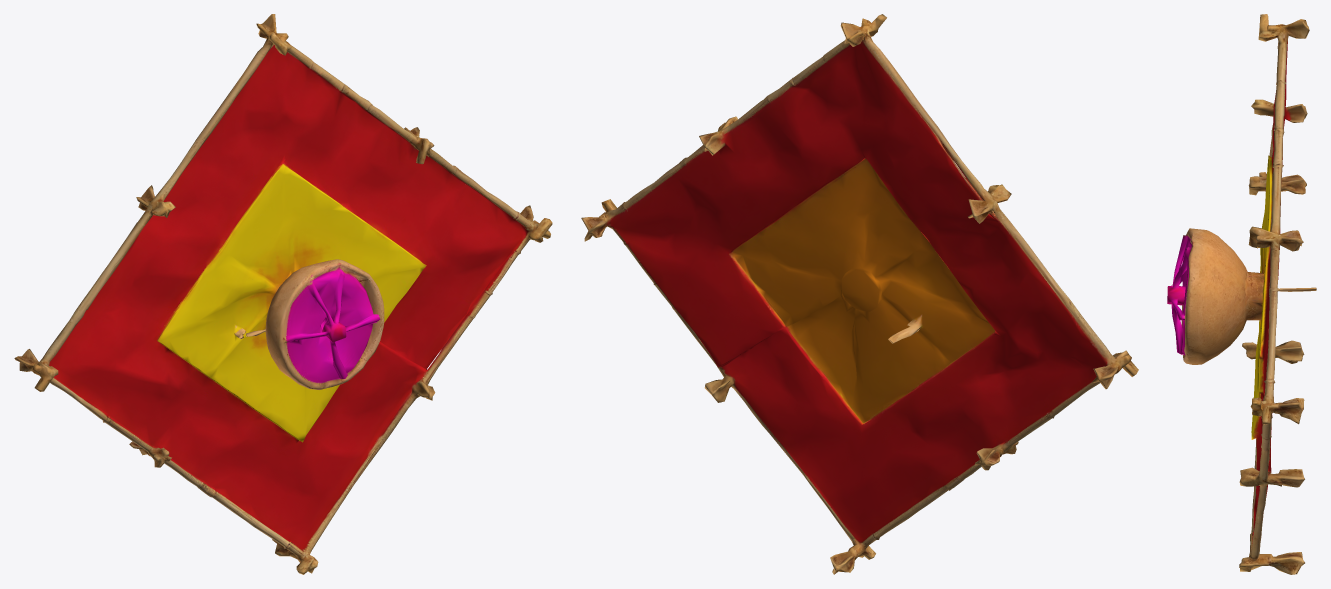
File: kite_changa.glb
3 renders of one model, left to right at view 1: azimuth 30°, elevation 25°; view 2: azimuth 150°, elevation 25°; view 3: azimuth 270°, elevation 25°, orthographic. The views are drawn at different scales.
Visible parts, largest first — view 1: tripo_node_9cee32e8-45a4-4835-8f10-a7f914b60bdd; view 2: tripo_node_9cee32e8-45a4-4835-8f10-a7f914b60bdd; view 3: tripo_node_9cee32e8-45a4-4835-8f10-a7f914b60bdd.
Part boxes in pixels (x1,y1,x2,y2): tripo_node_9cee32e8-45a4-4835-8f10-a7f914b60bdd: (14, 14, 552, 574); tripo_node_9cee32e8-45a4-4835-8f10-a7f914b60bdd: (581, 14, 1138, 574); tripo_node_9cee32e8-45a4-4835-8f10-a7f914b60bdd: (1167, 14, 1316, 574).
Bounding box in the file's own units: 1 × 0.9901 × 0.2448.
1 material, 1 textured.
